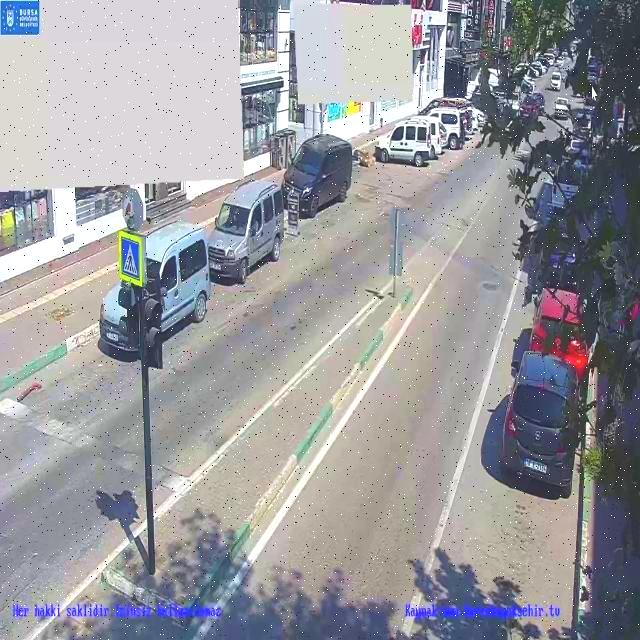Car: (495, 352, 587, 490), (529, 287, 589, 376), (376, 120, 442, 167), (424, 108, 468, 149), (520, 94, 544, 122), (554, 98, 570, 120), (549, 71, 562, 91), (520, 78, 534, 94), (542, 53, 555, 66), (556, 56, 566, 66)
Van: (100, 222, 211, 356), (208, 180, 286, 280), (282, 134, 352, 216)
